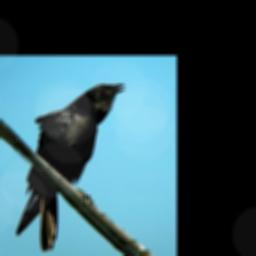Crow: (15, 82, 126, 253)
